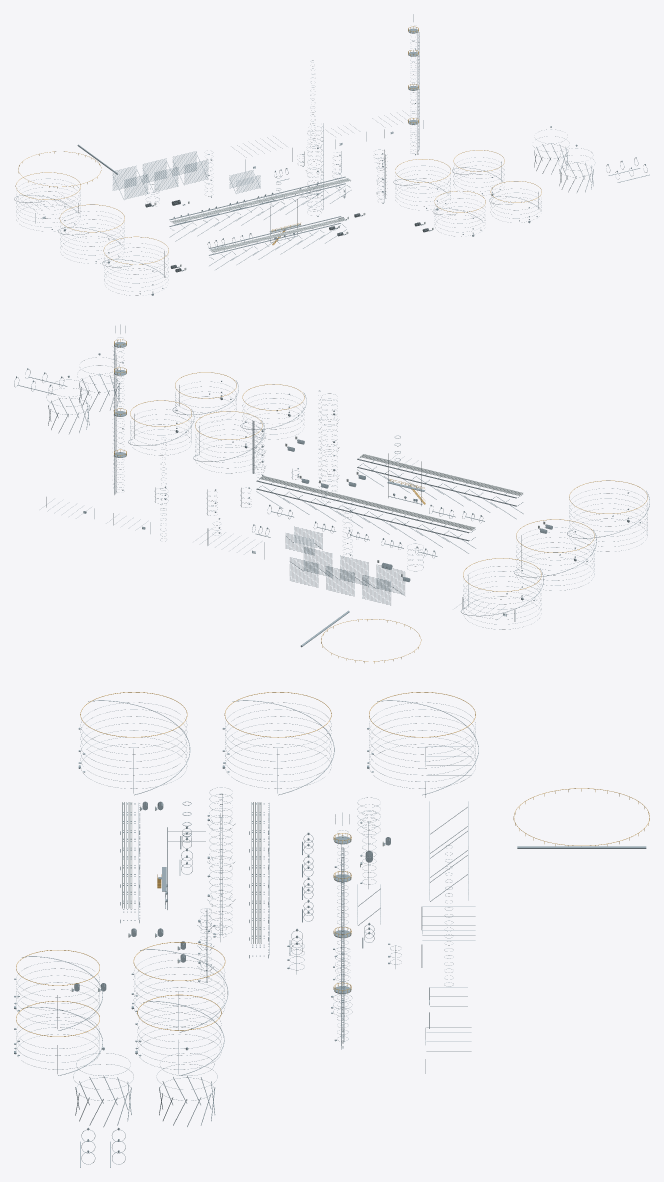
Rendered from hero.glb.
3 renders of one model, top to bottom at view 1: azimuth 30°, elevation 25°; view 2: azimuth 150°, elevation 25°; view 3: azimuth 270°, elevation 25°, orthographic. The views are drawn at different scales.
Parts seen in each view (by area): view 1: CT-403_hero_detail, CT-402_hero_detail, CT-401_hero_detail, FL-401_hero_detail, EA-501_hero_detail, TK-101_hero_detail, TK-103_hero_detail, TK-102_hero_detail, PR-007_hero_detail, PR-004_hero_detail, PR-001_hero_detail, PR-005_hero_detail (+3 smaller); view 2: CT-401_hero_detail, CT-402_hero_detail, CT-403_hero_detail, FL-401_hero_detail, EA-501_hero_detail, TK-102_hero_detail, TK-103_hero_detail, TK-101_hero_detail, TK-301_hero_detail, PR-007_hero_detail, PR-006_hero_detail, PR-001_hero_detail (+5 smaller); view 3: FL-401_hero_detail, TK-101_hero_detail, TK-102_hero_detail, TK-103_hero_detail, TK-301_hero_detail, TK-303_hero_detail, T-201_hero_detail, TK-302_hero_detail, TK-304_hero_detail, CT-404_hero_detail, SP-501_hero_detail.
Part boxes in pixels (x1,y1,x2,y2): CT-403_hero_detail: (172, 151, 208, 185); CT-402_hero_detail: (142, 158, 178, 192); CT-401_hero_detail: (112, 165, 148, 199); FL-401_hero_detail: (408, 14, 419, 155); EA-501_hero_detail: (229, 170, 260, 193); TK-101_hero_detail: (102, 236, 168, 295); TK-103_hero_detail: (14, 172, 80, 231); TK-102_hero_detail: (58, 204, 124, 263); PR-007_hero_detail: (209, 237, 258, 269); PR-004_hero_detail: (253, 227, 302, 259); PR-001_hero_detail: (169, 209, 218, 241); PR-005_hero_detail: (297, 216, 346, 248); CT-401_hero_detail: (362, 564, 404, 605); CT-402_hero_detail: (326, 555, 368, 596); CT-403_hero_detail: (289, 547, 332, 587); FL-401_hero_detail: (112, 324, 126, 494); EA-501_hero_detail: (285, 526, 322, 555); TK-102_hero_detail: (514, 519, 596, 590); TK-103_hero_detail: (461, 558, 543, 629); TK-101_hero_detail: (567, 480, 649, 551); TK-301_hero_detail: (193, 411, 264, 473); PR-007_hero_detail: (463, 480, 523, 519); PR-006_hero_detail: (256, 475, 316, 514); PR-001_hero_detail: (416, 514, 475, 553); FL-401_hero_detail: (333, 812, 351, 1049); TK-101_hero_detail: (78, 692, 190, 795); TK-102_hero_detail: (222, 692, 334, 795); TK-103_hero_detail: (367, 692, 478, 795); TK-301_hero_detail: (131, 942, 228, 1032); TK-303_hero_detail: (135, 994, 224, 1075); T-201_hero_detail: (207, 787, 235, 935); TK-302_hero_detail: (14, 950, 102, 1030); TK-304_hero_detail: (14, 1001, 102, 1075); CT-404_hero_detail: (513, 788, 649, 848); SP-501_hero_detail: (73, 1047, 133, 1127).
Bounding box in the file's own units: 263 × 66.9 × 168.
